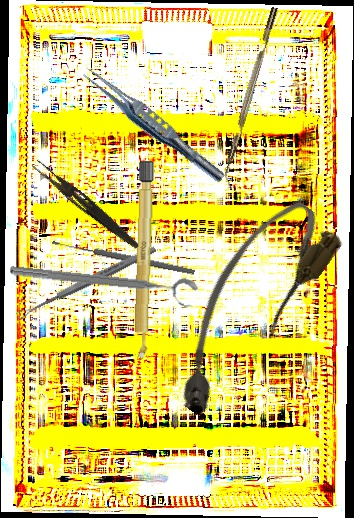Cannula: (144, 188, 349, 426)
Chopper: (218, 6, 287, 186)
Dressing Forceps: (28, 158, 145, 252)
Fixation Ring: (7, 260, 201, 310)
Scalpel Handle: (131, 159, 155, 363)
Surgical Spoon: (15, 244, 157, 321), (51, 238, 196, 276)
Tissue Forceps: (76, 62, 231, 187)
